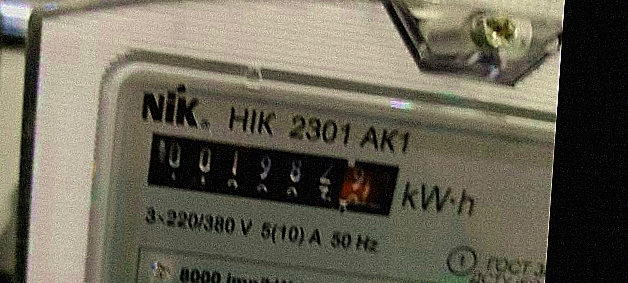0: (195, 143, 214, 173), (165, 138, 183, 168)
1: (227, 145, 241, 175)
2: (317, 155, 337, 185)
8: (287, 153, 305, 183)
9: (347, 163, 369, 192), (256, 150, 273, 180)
screen: (128, 116, 415, 231)
